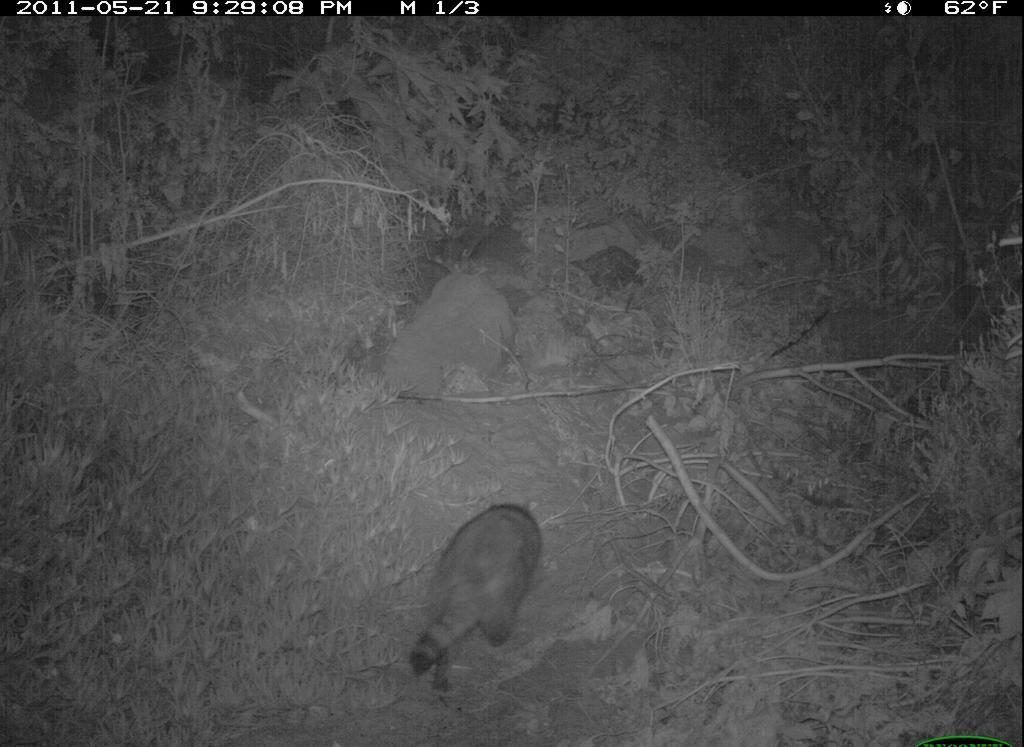raccoon: (408, 501, 545, 685)
